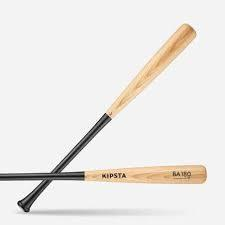Baseball-Bat: (51, 24, 196, 174), (0, 164, 207, 184), (18, 180, 52, 212)
